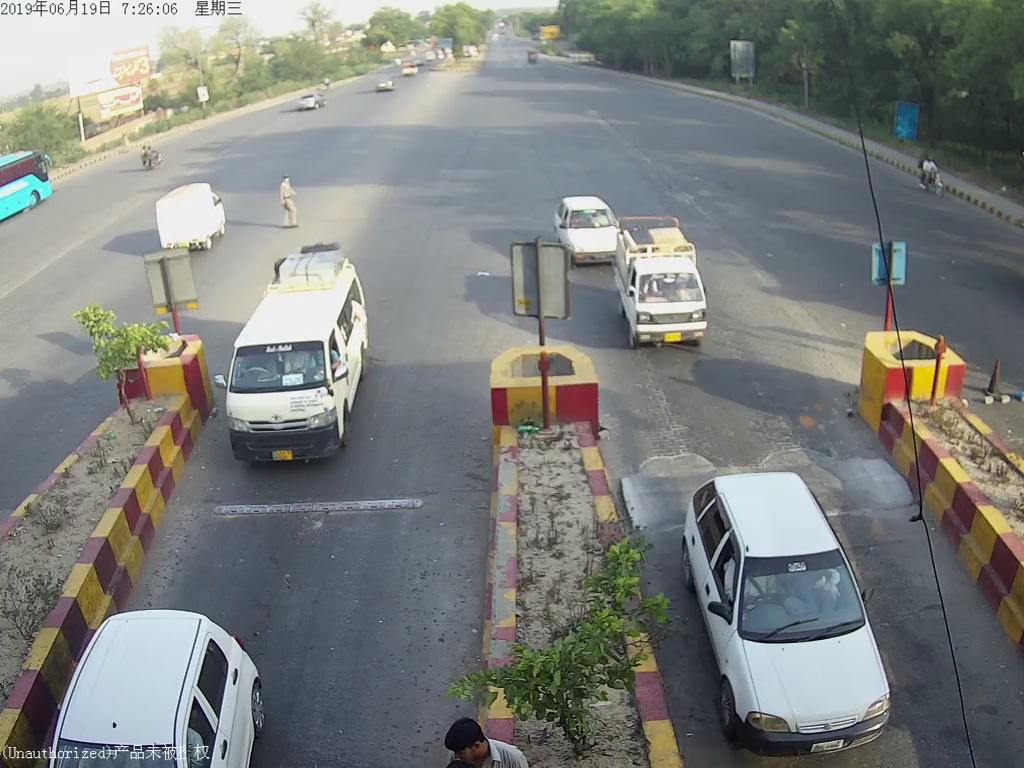Cat-1: (679, 462, 912, 759), (612, 217, 719, 359)
Cat-2: (222, 250, 379, 472)
